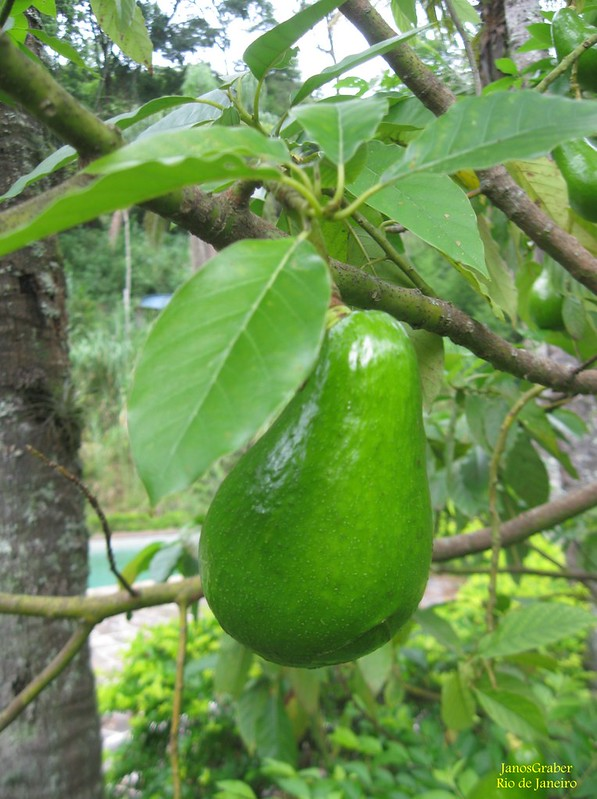abacate: (197, 308, 441, 668)
